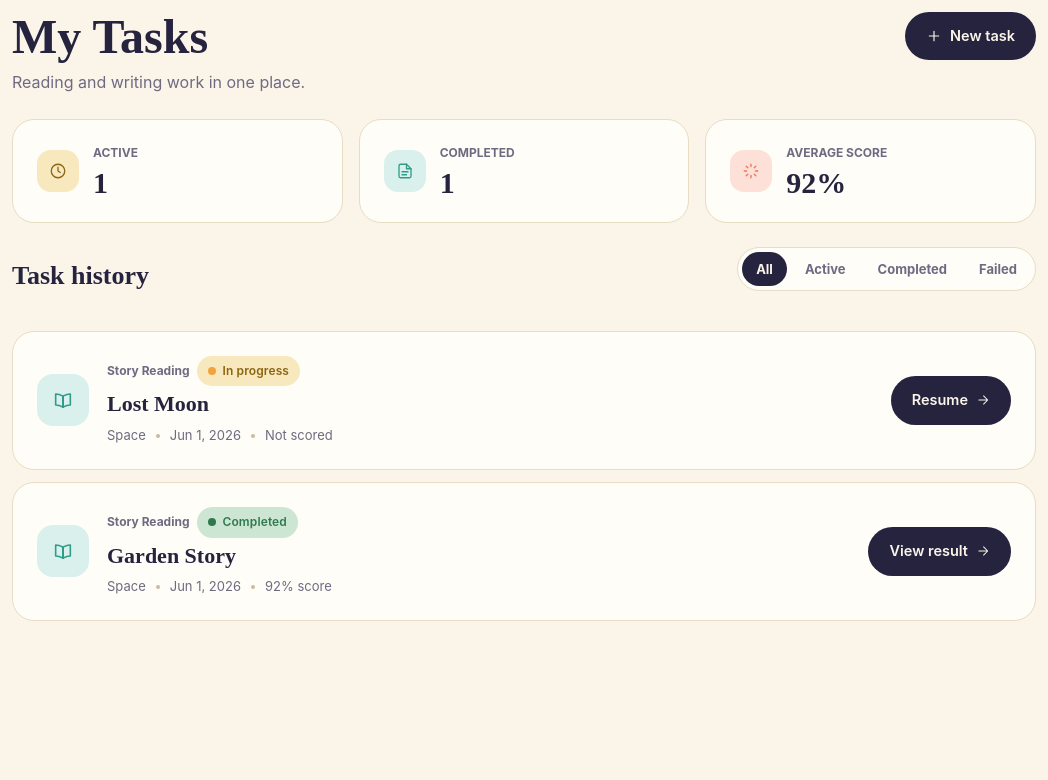
TasksRoute › filters the task history by completion state
The image size is (1048, 780).
Click the button "Completed". click: (912, 269)
box: [864,252,961,286]
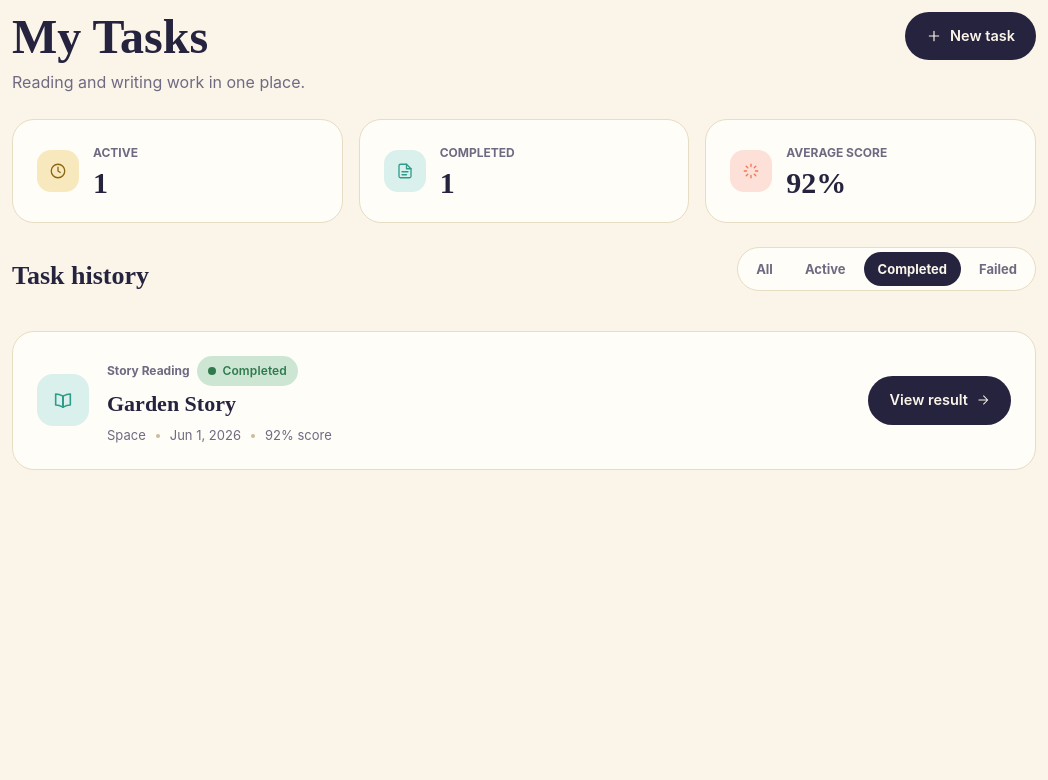
Expected: the heading "Garden Story" is shown, [107,391,236,416]
Now the heading "Lost Moon" is gone
Click the button "Failed". click: (998, 269)
box: [965,252,1031,286]
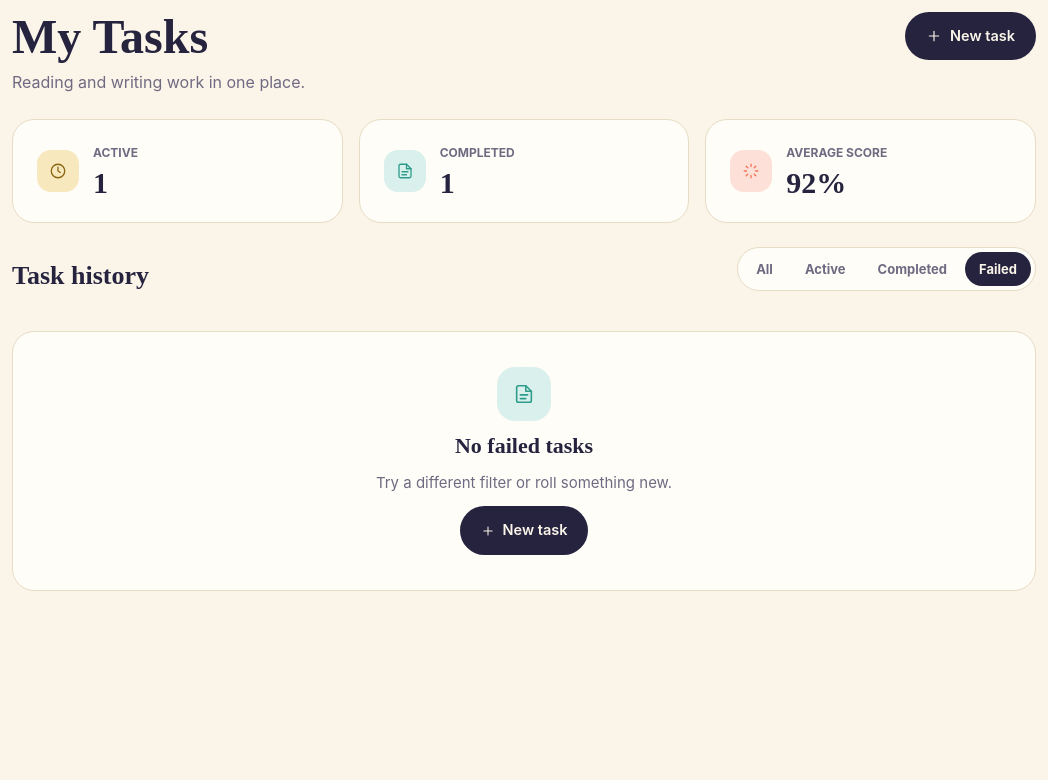
Now the heading "No failed tasks" is shown, box [455,433,593,459]
